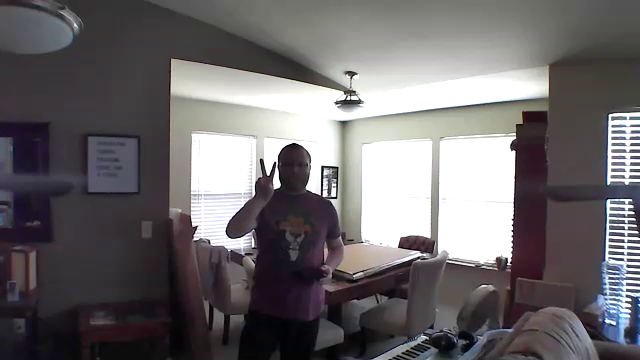peace: (250, 153, 282, 200)
